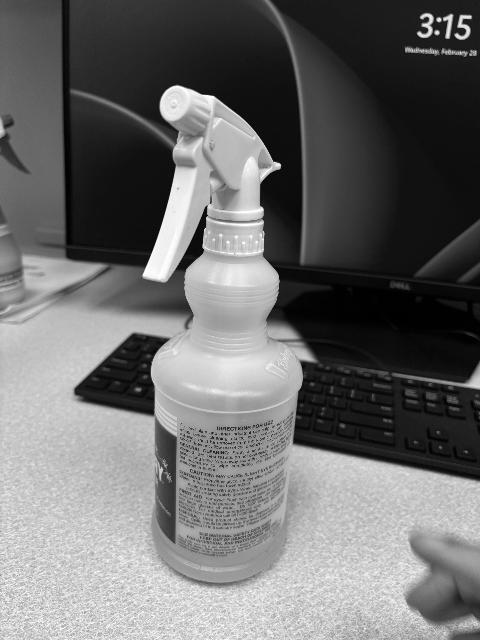StarSpray: (142, 86, 303, 587)
